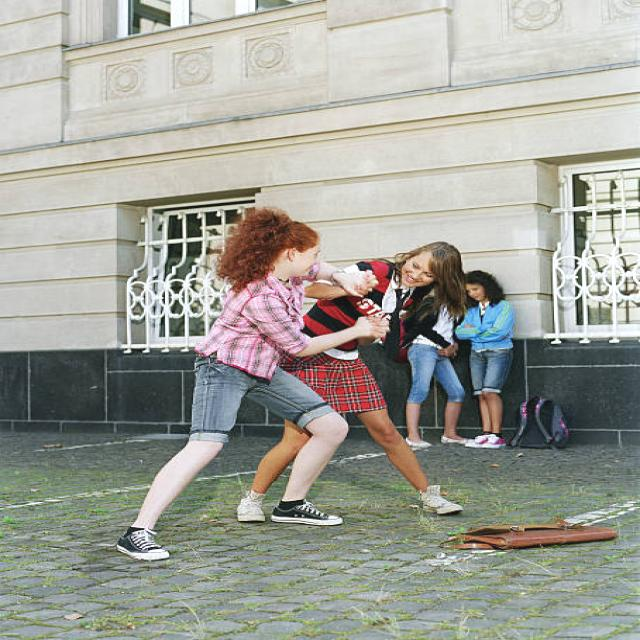fight: (121, 205, 463, 560)
